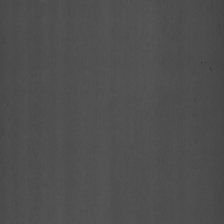inclusion: (199, 52, 215, 82)
